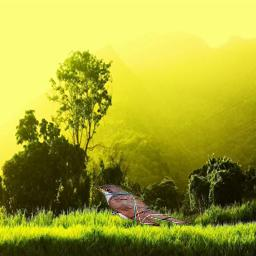Cuckoo: (93, 182, 194, 231)
